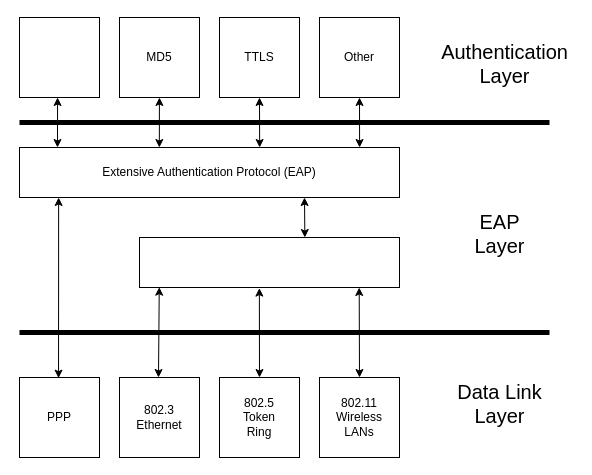
Some shapes in this 592 by 475 pixel diagram are drawn without their labels. The box of each missing label's shape, as (x1, y1, x2, y2) in pixels:
EAP Over LAN (EAPoL): (138, 236, 400, 288)
TLS: (18, 16, 100, 98)
